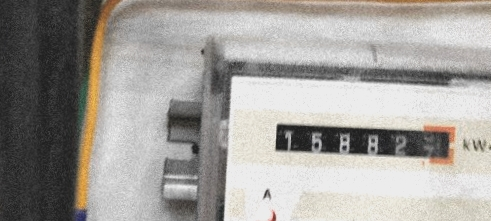1: (281, 127, 295, 150)
2: (392, 132, 408, 157)
5: (309, 128, 323, 153)
7: (422, 140, 434, 157)
8: (365, 131, 379, 156), (337, 131, 350, 154)
screen: (265, 113, 464, 173)
